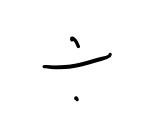div: (40, 38, 112, 105)
